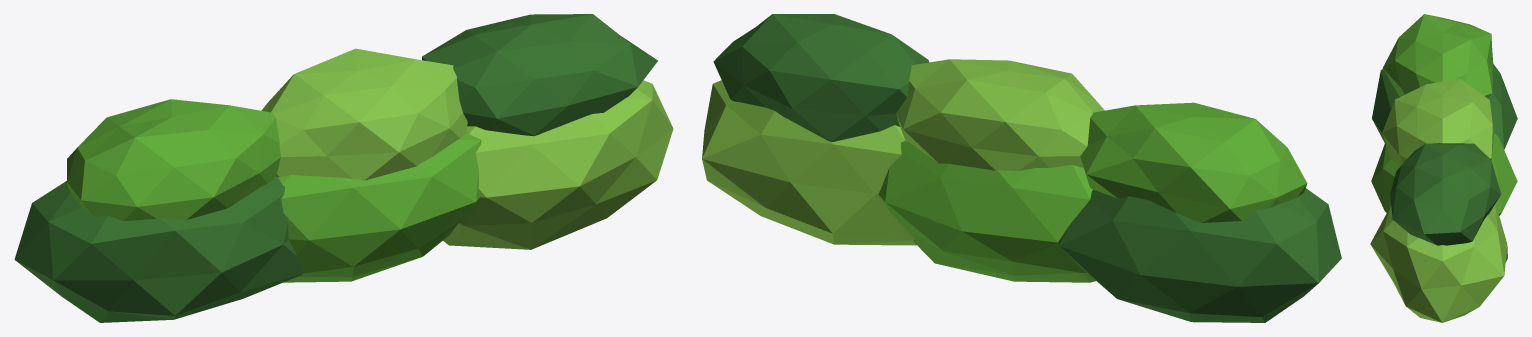
File: hedge_straight_2.glb
3 renders of one model, left to right at view 1: azimuth 30°, elevation 25°; view 2: azimuth 150°, elevation 25°; view 3: azimuth 270°, elevation 25°, orthographic. The views are drawn at different scales.
Visible parts, largest first — view 1: hedge_straight_2; view 2: hedge_straight_2; view 3: hedge_straight_2.
Part boxes in pixels (bbox=[...]): hedge_straight_2: bbox=[14, 14, 673, 322]; hedge_straight_2: bbox=[702, 14, 1341, 322]; hedge_straight_2: bbox=[1370, 14, 1517, 322].
Size of what is drawn, in the model's own units: 4.7 by 1.52 by 1.33.
